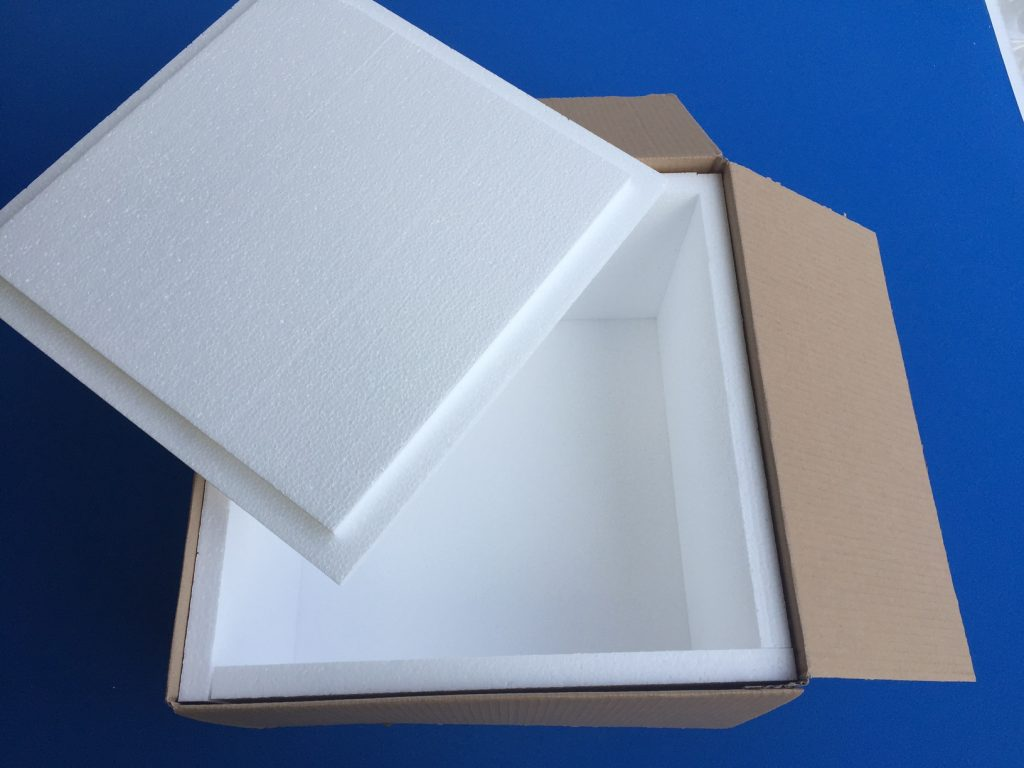Boxes: (0, 0, 959, 727)
